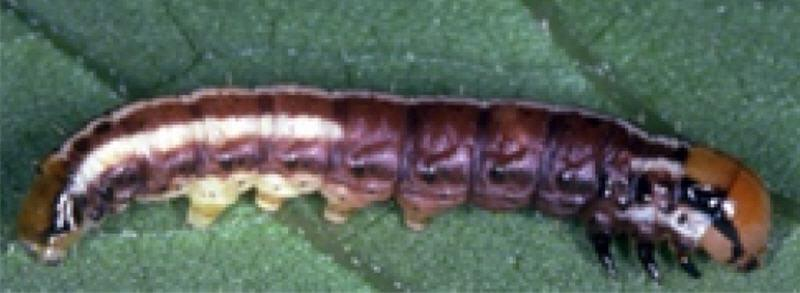caterpillars: (0, 36, 800, 293)
